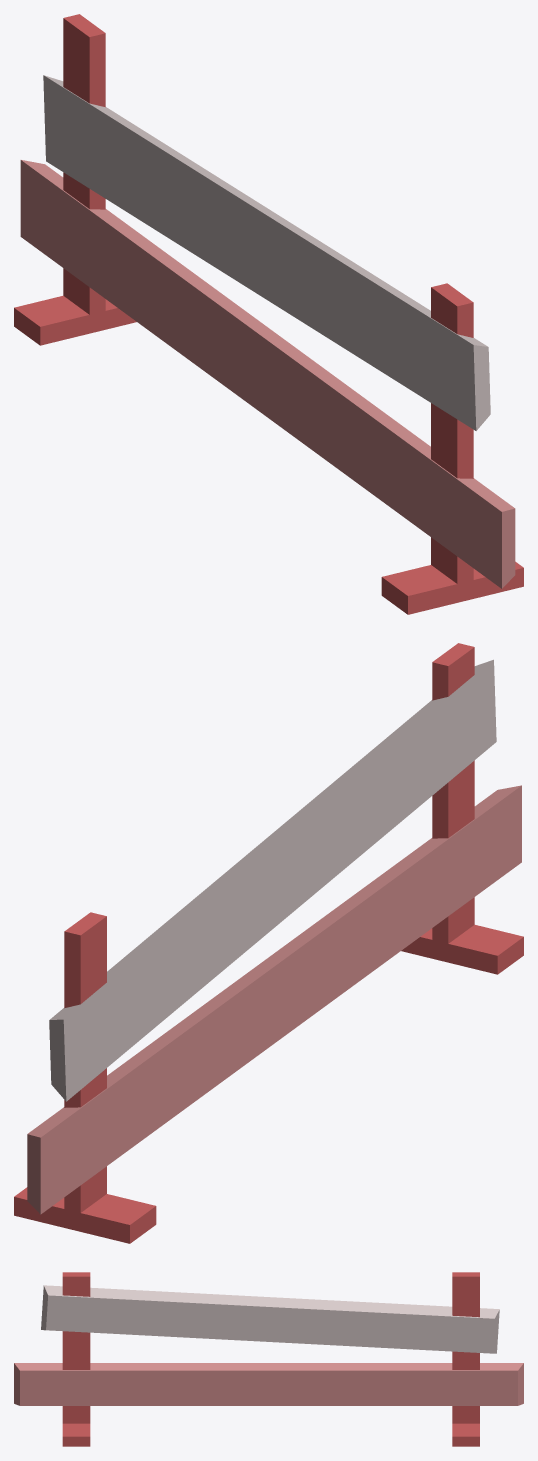
File: valla1.fbx
The picture shows the model from 3 angles, top to bottom: view 1: azimuth 30°, elevation 25°; view 2: azimuth 150°, elevation 25°; view 3: azimuth 270°, elevation 25°; orthographic projection. The views are drawn at different scales.
Parts seen in each view (by area): view 1: pCube2, pCube3, pCube5, pCube6; view 2: pCube2, pCube3, pCube6, pCube5; view 3: pCube2, pCube3, pCube5, pCube6.
Boxes of the visible parts, x1,y1,x2,y2 form: pCube2: (20, 160, 515, 588); pCube3: (43, 75, 490, 430); pCube5: (381, 283, 523, 614); pCube6: (14, 14, 136, 345); pCube2: (27, 785, 521, 1214); pCube3: (49, 659, 496, 1101); pCube6: (14, 912, 156, 1243); pCube5: (401, 643, 523, 974); pCube2: (14, 1363, 523, 1405); pCube3: (41, 1285, 499, 1353); pCube5: (62, 1272, 90, 1446); pCube6: (452, 1272, 479, 1446).
Bounding box in the file's own units: 0.732 × 1.79 × 5.26.
